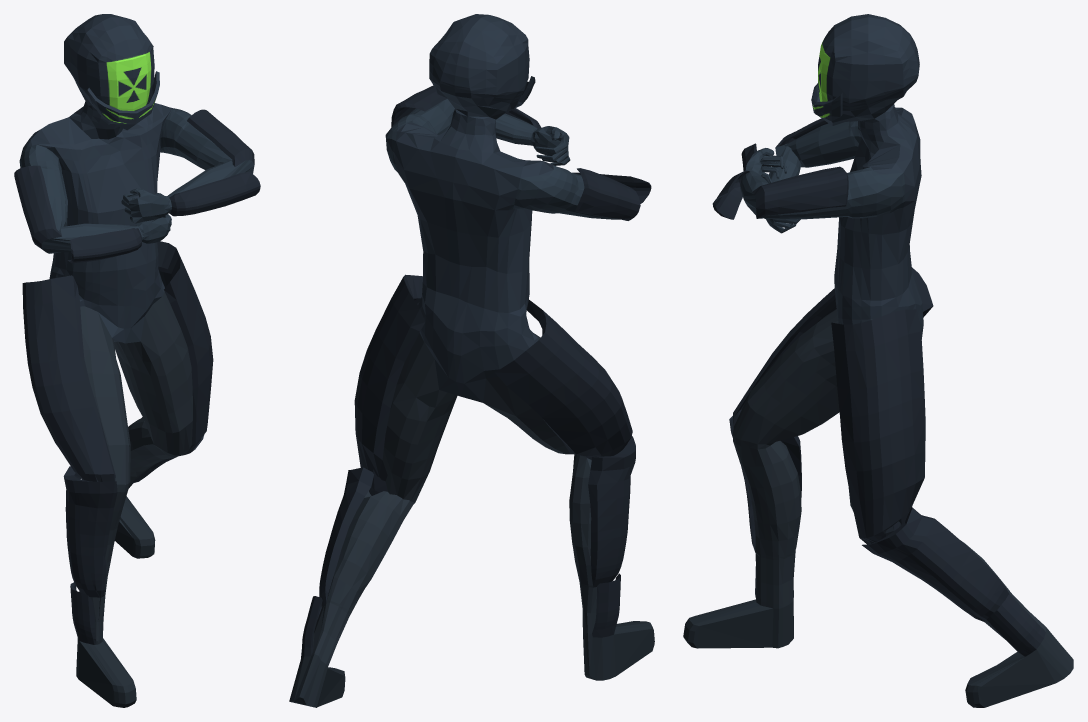
File: Bastion_WF_000004.obj
The picture shows the model from 3 angles, left to right: view 1: azimuth 30°, elevation 25°; view 2: azimuth 150°, elevation 25°; view 3: azimuth 270°, elevation 25°; orthographic projection. The views are drawn at different scales.
Visible parts, largest first — view 1: Cube.002; view 2: Cube.002; view 3: Cube.002.
Boxes of the visible parts, x1,y1,x2,y2 form: Cube.002: (14, 14, 260, 707); Cube.002: (289, 14, 654, 707); Cube.002: (683, 14, 1073, 707).
Size of the model in its own units: 1.36 by 3.64 by 1.95.
